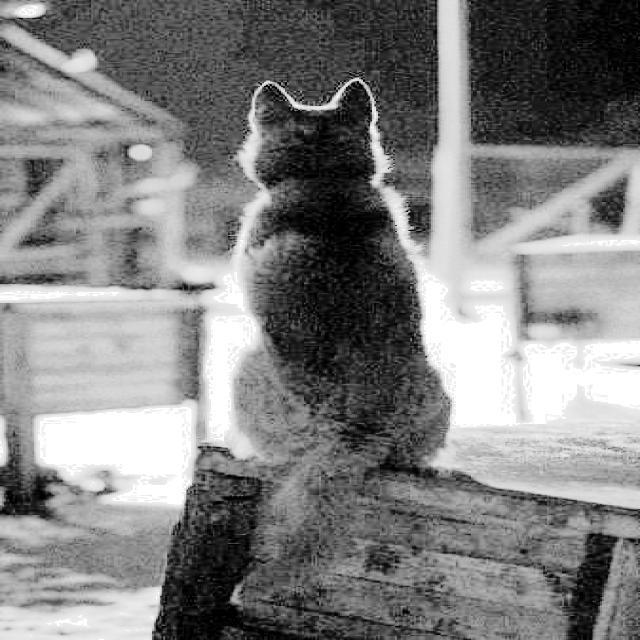Dog: (157, 65, 469, 573)
